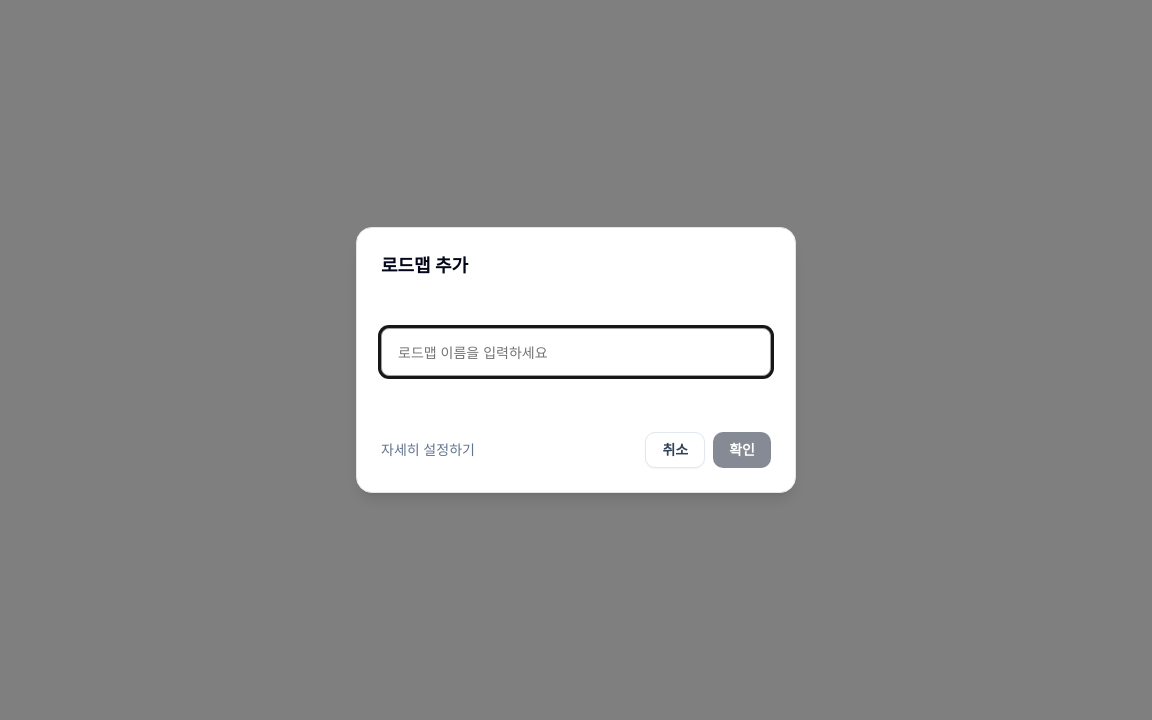
AddRoadmapModal › opens SelectLocationModal when "자세히 설정하기" is clicked
Expected: the text "위치선택" is not shown
Note: Click "자세히 설정하기"
Step 1. Click the button "자세히 설정하기" → point(428, 450), box [381,440,475,460]
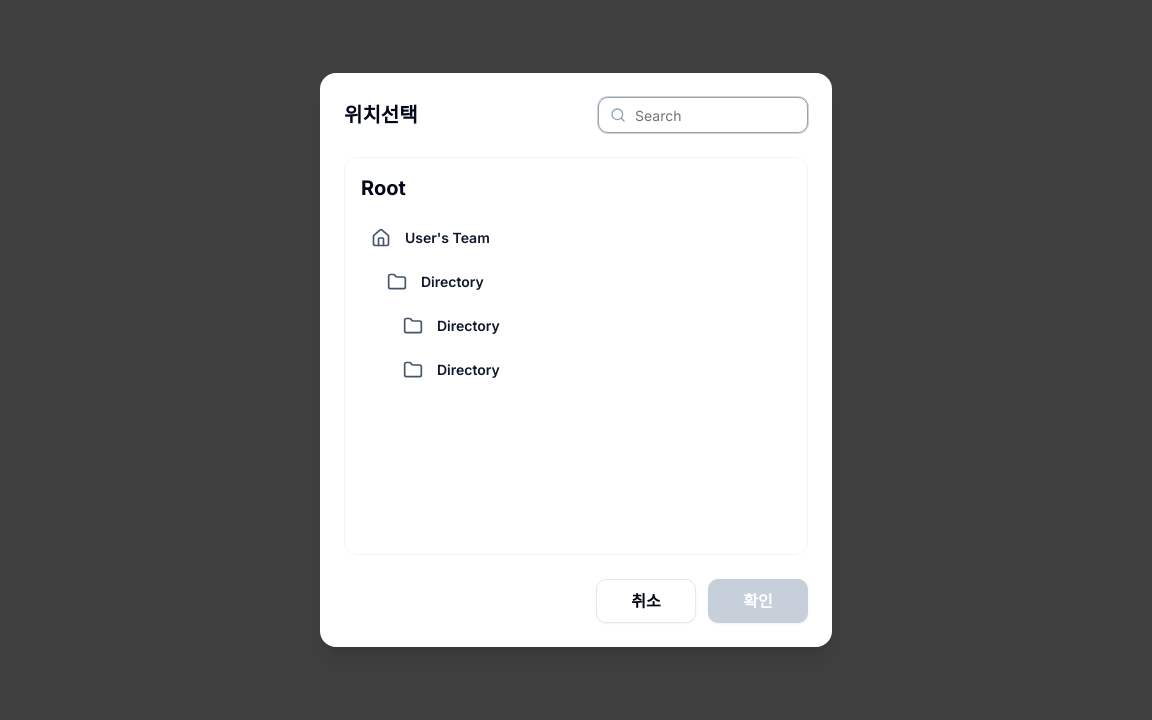
Expected: the heading "위치선택" is shown, [344,101,418,129]
